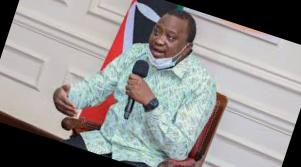mask_weared_incorrect: (144, 24, 186, 70)
